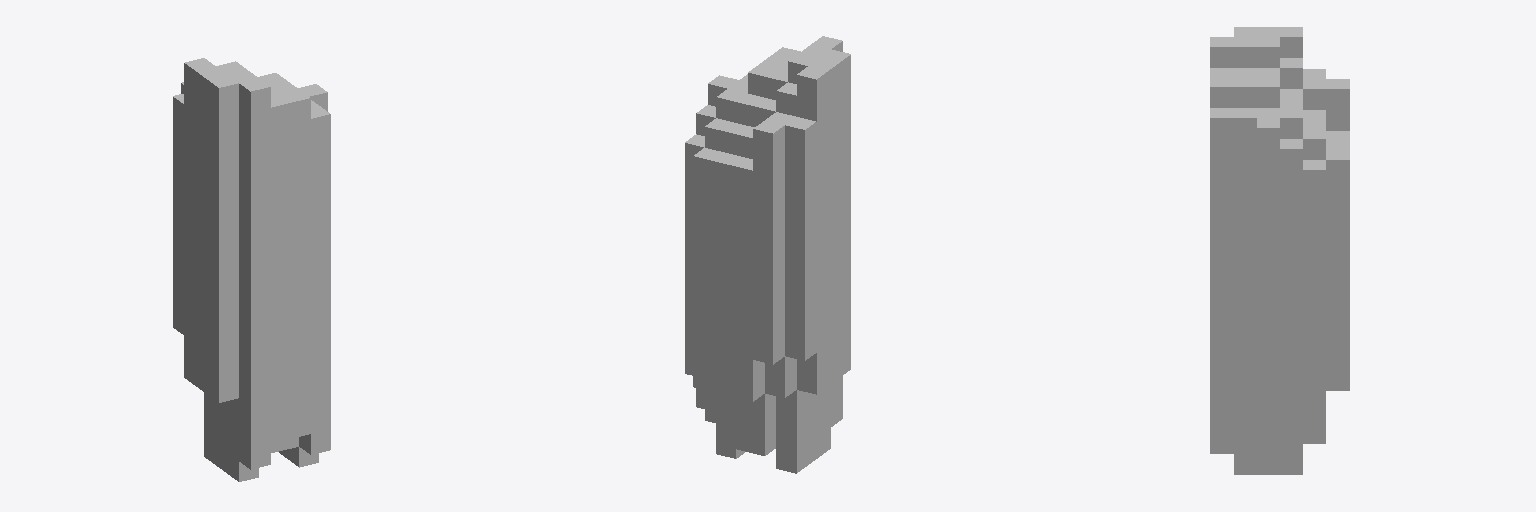
The model's file is Thigh_04_R.obj.
The picture shows the model from 3 angles: view 1: azimuth 30°, elevation 25°; view 2: azimuth 150°, elevation 25°; view 3: azimuth 270°, elevation 25°; orthographic projection.
Visible parts, largest first — view 1: Thigh_04_R; view 2: Thigh_04_R; view 3: Thigh_04_R.
Part boxes in pixels (bbox=[...]): Thigh_04_R: bbox=[173, 58, 330, 481]; Thigh_04_R: bbox=[685, 36, 850, 473]; Thigh_04_R: bbox=[1210, 27, 1349, 474].
Bounding box in the file's own units: 0.6 × 1.9 × 0.6.